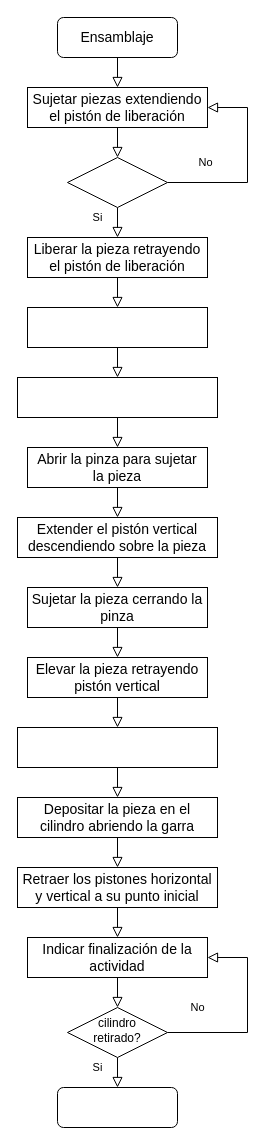
This 275x1145 diagram has some shape labels left out. The box of each missing label's shape, as (x1, y1, x2, y2) in pixels:
Extender pistón horizontal y vertical para dejar la pieza: (16, 726, 218, 768)
Fin: (56, 1086, 178, 1128)
Girar el cilindro rotatorio para llevar la pieza hacia la garra: (16, 376, 218, 418)
hay cilindro?: (66, 156, 168, 208)
Volver a sujetar las piezas con el pistón: (26, 306, 208, 348)
